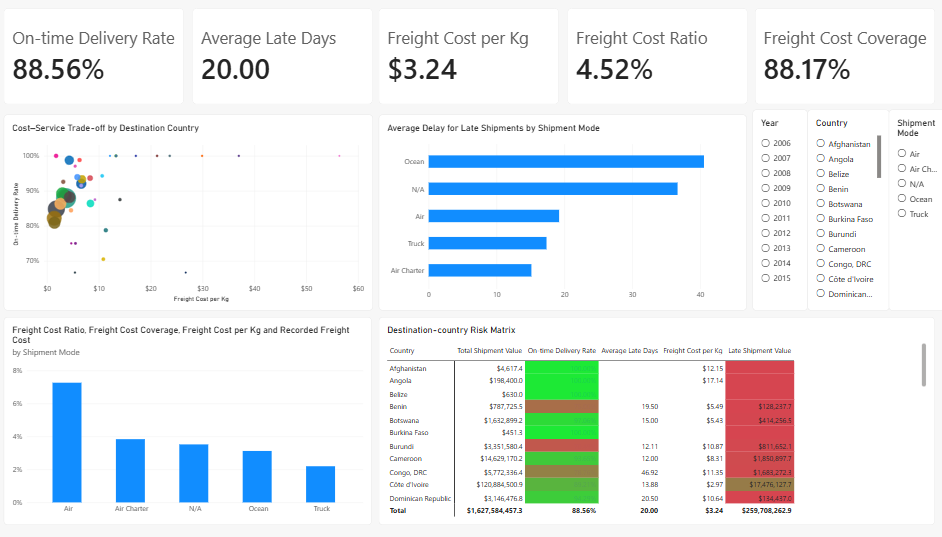

Layout of this report page (visuals, bound fields, positions):
{"tool":"powerbi","page":{"name":"Delivery & Cost Performance","canvas":[1920,1080],"ordinal":1},"visuals":[{"type":"cardVisual","fields":{"Data":["Measure.On-time Delivery Rate"]},"box":[26.4,21.6,360,192],"z":0},{"type":"cardVisual","fields":{"Data":["Measure.Average Late Days"]},"box":[404.4,21.6,360,192],"z":1},{"type":"cardVisual","fields":{"Data":["Measure.Freight Cost per Kg"]},"box":[778.4,21.6,360,192],"z":2},{"type":"cardVisual","fields":{"Data":["Measure.Freight Cost Ratio"]},"box":[1154.4,21.6,360,192],"z":3},{"type":"cardVisual","fields":{"Data":["Measure.Freight Cost Coverage"]},"box":[1530.4,21.6,360,192],"z":4},{"type":"scatterChart","title":"Cost–Service Trade-off by Destination Country","fields":{"Series":["dim_country.Country"],"Size":["Measure.Total Shipment Value"],"X":["Measure.Freight Cost per Kg"],"Y":["Measure.On-time Delivery Rate"]},"box":[28,234,738,392],"z":5},{"type":"clusteredBarChart","title":"Average Delay for Late Shipments by Shipment Mode","fields":{"Category":["dim_shipment_mode.Shipment Mode"],"Y":["Measure.Average Late Days"]},"box":[778,234,736,392],"z":6},{"type":"clusteredColumnChart","fields":{"Category":["dim_shipment_mode.Shipment Mode"],"Y":["Measure.Freight Cost Ratio"]},"box":[28,640,736,416],"z":7},{"type":"pivotTable","title":"Destination-country Risk Matrix","fields":{"Rows":["dim_country.Country"],"Values":["Measure.Total Shipment Value","Measure.On-time Delivery Rate","Measure.Average Late Days","Measure.Freight Cost per Kg","Measure.Late Shipment Value"]},"box":[778,640,1112,416],"z":8},{"type":"listSlicer","fields":{"Values":["dim_date.Year"]},"box":[1524,224,110,402],"z":9},{"type":"listSlicer","fields":{"Values":["dim_country.Country"]},"box":[1634,224,164,402],"z":10},{"type":"listSlicer","fields":{"Values":["dim_shipment_mode.Shipment Mode"]},"box":[1798,224,122,402],"z":11}]}

Visuals, with their boxes in screenshot pixels (x1, y1, x2, y2), scaled from the page's 1920x1080 canvas onto the 942x537 screenshot:
cardVisual - Measure.On-time Delivery Rate: [x1=13, y1=11, x2=190, y2=106]
cardVisual - Measure.Average Late Days: [x1=198, y1=11, x2=375, y2=106]
cardVisual - Measure.Freight Cost per Kg: [x1=382, y1=11, x2=559, y2=106]
cardVisual - Measure.Freight Cost Ratio: [x1=566, y1=11, x2=743, y2=106]
cardVisual - Measure.Freight Cost Coverage: [x1=751, y1=11, x2=927, y2=106]
"Cost–Service Trade-off by Destination Country" scatterChart: [x1=14, y1=116, x2=376, y2=311]
"Average Delay for Late Shipments by Shipment Mode" clusteredBarChart: [x1=382, y1=116, x2=743, y2=311]
clusteredColumnChart - dim_shipment_mode.Shipment Mode x Measure.Freight Cost Ratio: [x1=14, y1=318, x2=375, y2=525]
"Destination-country Risk Matrix" pivotTable: [x1=382, y1=318, x2=927, y2=525]
listSlicer - dim_date.Year: [x1=748, y1=111, x2=802, y2=311]
listSlicer - dim_country.Country: [x1=802, y1=111, x2=882, y2=311]
listSlicer - dim_shipment_mode.Shipment Mode: [x1=882, y1=111, x2=941, y2=311]
